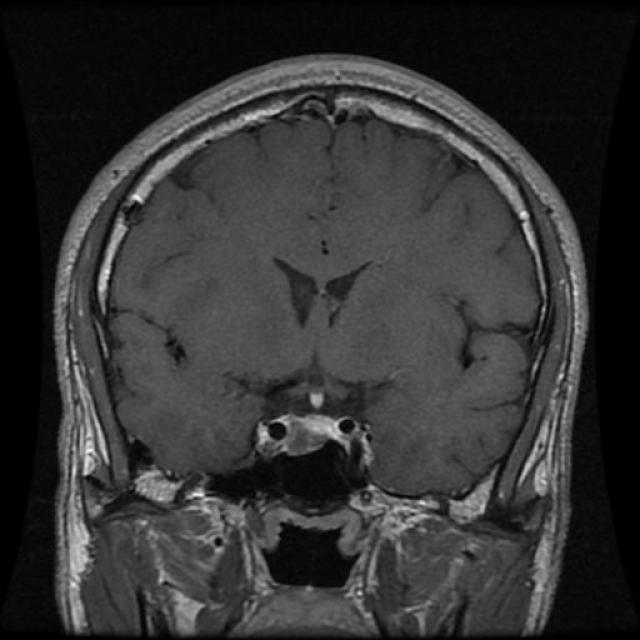pituitary: (237, 373, 391, 461)
